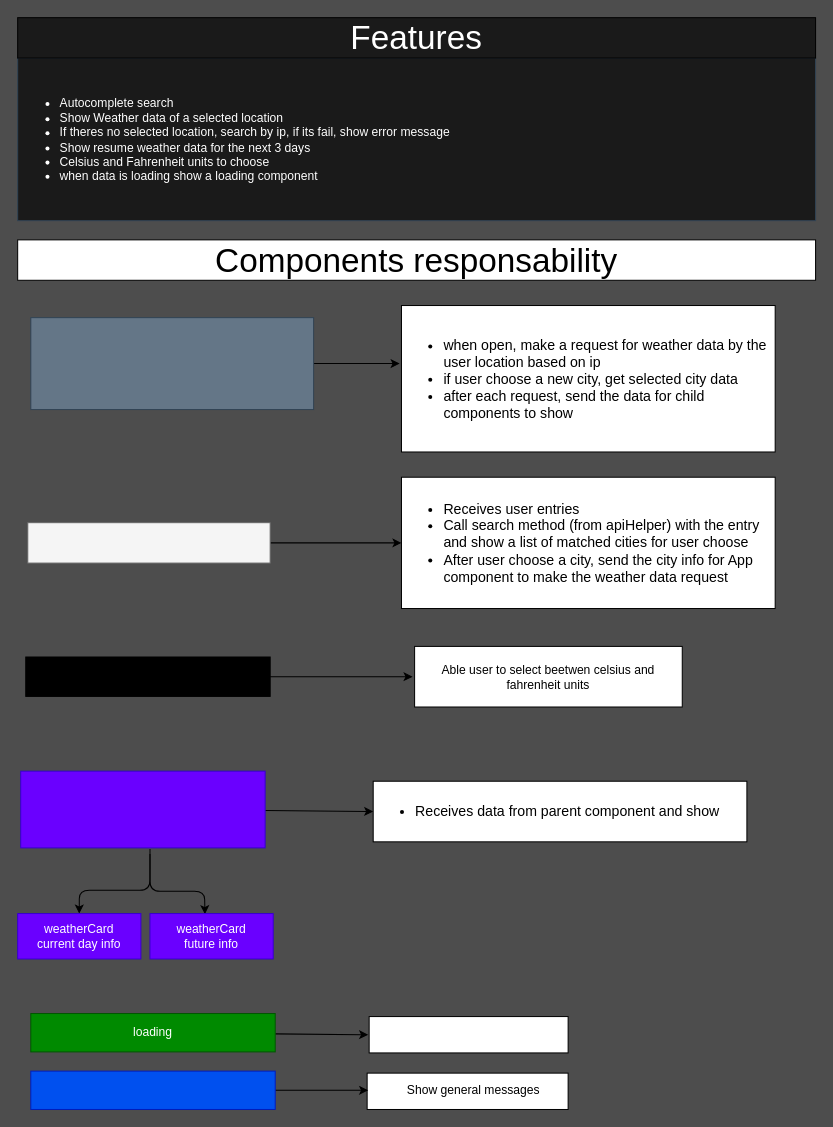
Some shapes in this 833 by 1127 pixel diagram are drawn without their labels. The shapes that lost their labels are listed below. From the top down, each one's centre as x and y in pixels, then its label:
(172,363): App
(148,542): SearchLocation Component
(147,676): Switch
(142,809): weatherCard
(468,1034): Visual feedback when data loads
(152,1089): Message
